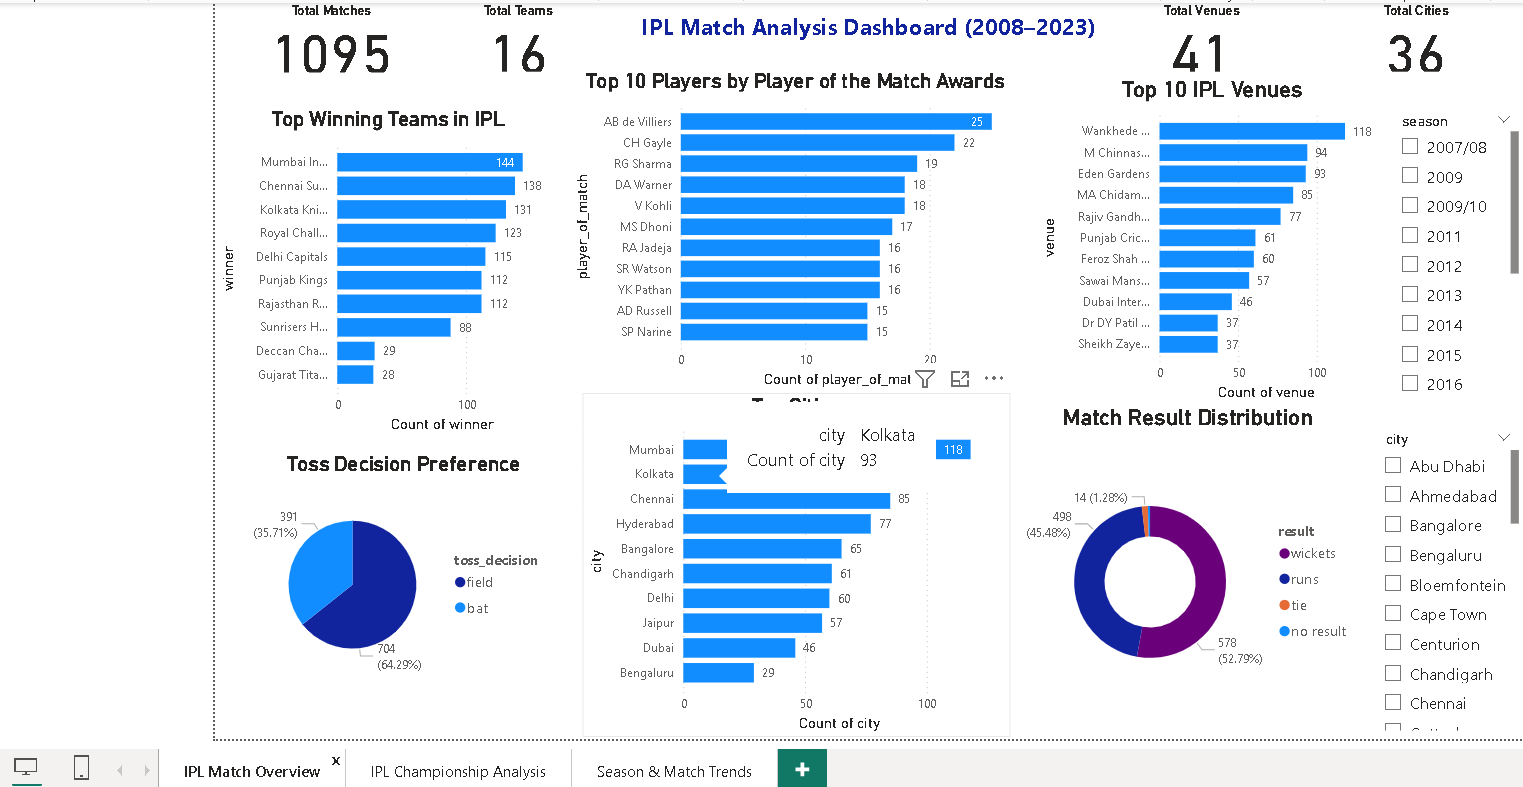

Layout of this report page (visuals, bound fields, positions):
{"tool":"powerbi","page":{"name":"IPL Match Overview","canvas":[1280,720],"ordinal":0},"visuals":[{"type":"card","title":"Total Matches","fields":{"Values":["CountNonNull(matches_cleaned.id)"]},"box":[15.9,0,195.7,73.4],"z":0},{"type":"card","title":"Total Teams","fields":{"Values":["Count(matches_cleaned.winner)"]},"box":[211,0,169.6,72.5],"z":1000},{"type":"card","title":"Total Venues","fields":{"Values":["Count(matches_cleaned.venue)"]},"box":[872.5,0,183.8,72.5],"z":2000},{"type":"card","title":"Total Cities","fields":{"Values":["Count(matches_cleaned.city)"]},"box":[1070,0,210.3,72.1],"z":3000},{"type":"clusteredBarChart","title":"Top Winning Teams in IPL","fields":{"Category":["matches_cleaned.winner"],"Y":["CountNonNull(matches_cleaned.winner)"]},"box":[0,101,339.2,323.6],"z":4000},{"type":"pieChart","title":"Toss Decision Preference","fields":{"Category":["matches_cleaned.toss_decision"],"Y":["CountNonNull(matches_cleaned.toss_decision)"]},"box":[30.6,439,308.2,237.2],"z":5000},{"type":"clusteredBarChart","title":"Top 10 Players by Player of the Match Awards","fields":{"Category":["matches_cleaned.player_of_match"],"Y":["CountNonNull(matches_cleaned.player_of_match)"]},"box":[346.1,63.6,443.9,317.9],"z":6000},{"type":"clusteredBarChart","title":"Top 10 IPL Venues","fields":{"Category":["matches_cleaned.venue"],"Y":["CountNonNull(matches_cleaned.venue)"]},"box":[803.4,72.1,344.8,321.6],"z":7000},{"type":"clusteredBarChart","title":"Top Cities","fields":{"Category":["matches_cleaned.city"],"Y":["CountNonNull(matches_cleaned.city)"]},"box":[359.5,381.5,418.2,336.3],"z":8000},{"type":"donutChart","title":"Match Result Distribution","fields":{"Category":["matches_cleaned.result"],"Y":["CountNonNull(matches_cleaned.result)"]},"box":[785.1,392.5,333.8,324.1],"z":9000},{"type":"textbox","box":[407.6,2.6,464.7,42.7],"z":10000},{"type":"slicer","fields":{"Values":["matches_cleaned.season"]},"box":[1148.2,101,132,291.3],"z":11000},{"type":"slicer","fields":{"Values":["matches_cleaned.city"]},"box":[1132.3,413.3,148,303.3],"z":12000}]}

Visuals, with their boxes on the page's 1280x720 design canvas (x1, y1, x2, y2). These are canvas units, not pixel positions in the 1523x787 screenshot, which may show the page scaled, cropped or inside an application window:
"Total Matches" card: detection(16, 0, 212, 73)
"Total Teams" card: detection(211, 0, 381, 72)
"Total Venues" card: detection(872, 0, 1056, 72)
"Total Cities" card: detection(1070, 0, 1280, 72)
"Top Winning Teams in IPL" clusteredBarChart: detection(0, 101, 339, 425)
"Toss Decision Preference" pieChart: detection(31, 439, 339, 676)
"Top 10 Players by Player of the Match Awards" clusteredBarChart: detection(346, 64, 790, 382)
"Top 10 IPL Venues" clusteredBarChart: detection(803, 72, 1148, 394)
"Top Cities" clusteredBarChart: detection(360, 382, 778, 718)
"Match Result Distribution" donutChart: detection(785, 392, 1119, 717)
textbox: detection(408, 3, 872, 45)
slicer - matches_cleaned.season: detection(1148, 101, 1280, 392)
slicer - matches_cleaned.city: detection(1132, 413, 1280, 717)
